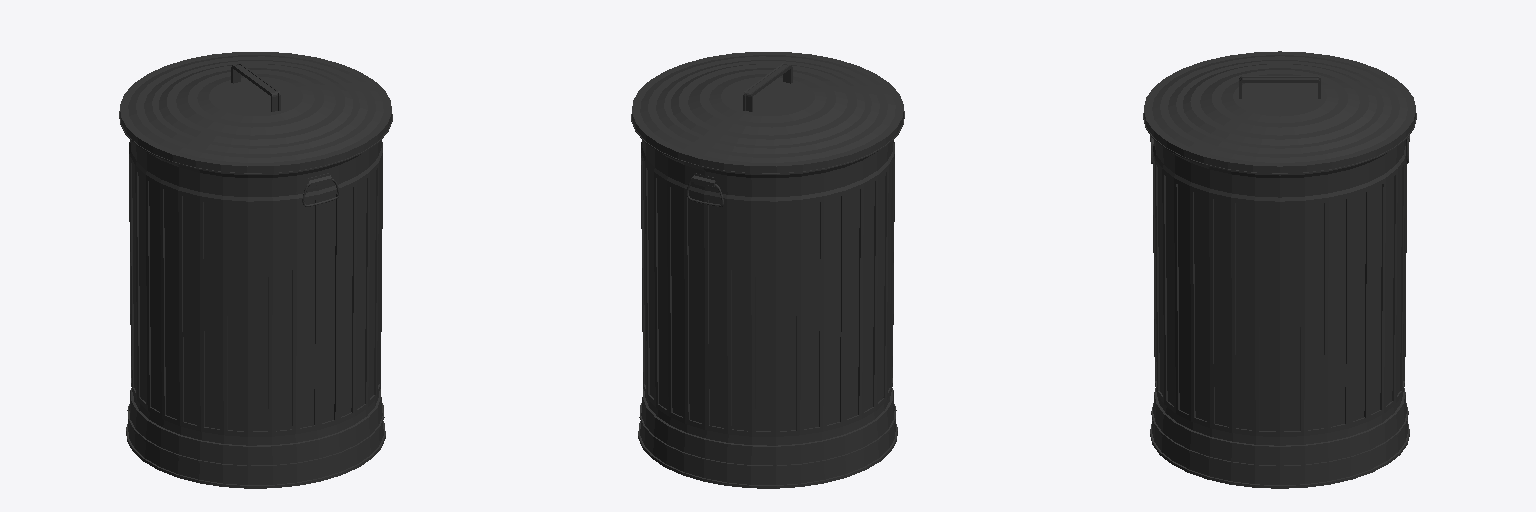
Rendered from GarbageCan.obj.
3 renders of one model, left to right at view 1: azimuth 30°, elevation 25°; view 2: azimuth 150°, elevation 25°; view 3: azimuth 270°, elevation 25°, orthographic.
Parts seen in each view (by area): view 1: Cylinder.004_Cylinder.009, Cylinder.003_Cylinder.008; view 2: Cylinder.004_Cylinder.009, Cylinder.003_Cylinder.008; view 3: Cylinder.004_Cylinder.009, Cylinder.003_Cylinder.008.
Part boxes in pixels (x1,y1,x2,y2): Cylinder.004_Cylinder.009: (126, 140, 385, 488); Cylinder.003_Cylinder.008: (119, 52, 392, 174); Cylinder.004_Cylinder.009: (638, 140, 897, 488); Cylinder.003_Cylinder.008: (631, 52, 904, 174); Cylinder.004_Cylinder.009: (1150, 135, 1409, 488); Cylinder.003_Cylinder.008: (1143, 51, 1416, 174).
Bounding box in the file's own units: 2.01 × 2.88 × 2.01.